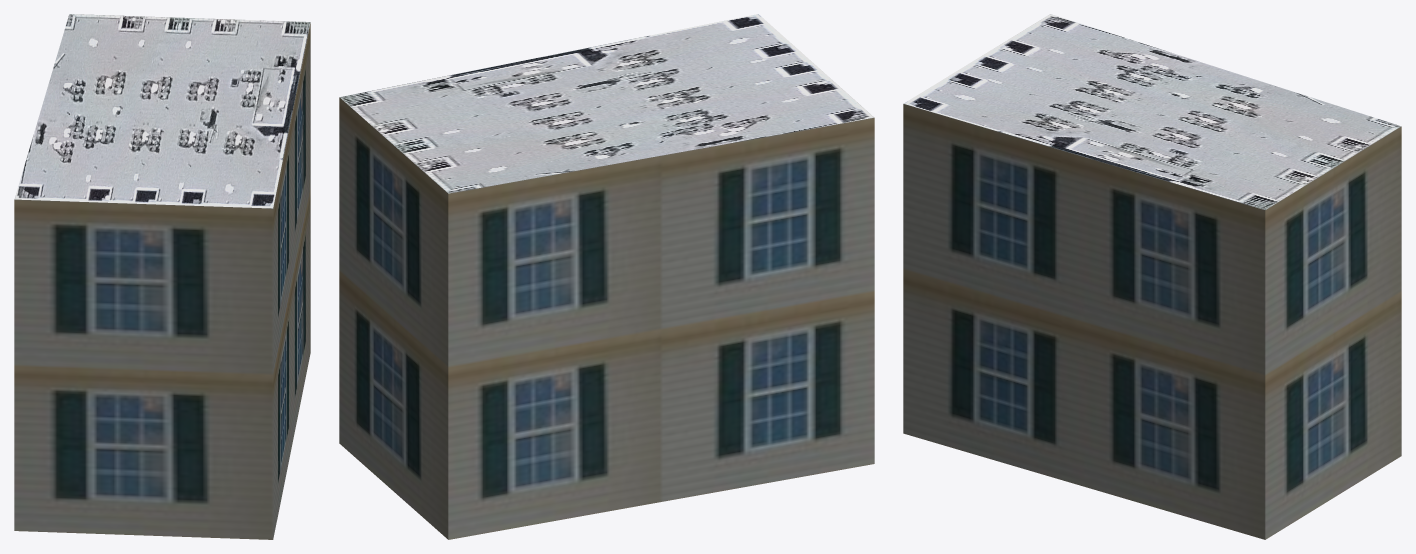
The model's file is ResTex__3861.fbx.
The picture shows the model from 3 angles, left to right: view 1: azimuth 30°, elevation 25°; view 2: azimuth 150°, elevation 25°; view 3: azimuth 270°, elevation 25°; orthographic projection. The views are drawn at different scales.
Visible parts, largest first — view 1: CityEngineMaterial_7_m, CityEngineMaterial_8_m; view 2: CityEngineMaterial_7_m, CityEngineMaterial_8_m; view 3: CityEngineMaterial_7_m, CityEngineMaterial_8_m.
Boxes of the visible parts, x1,y1,x2,y2 form: CityEngineMaterial_7_m: [14, 22, 310, 539]; CityEngineMaterial_8_m: [14, 14, 310, 208]; CityEngineMaterial_7_m: [339, 97, 874, 539]; CityEngineMaterial_8_m: [339, 14, 873, 193]; CityEngineMaterial_7_m: [903, 104, 1401, 539]; CityEngineMaterial_8_m: [904, 14, 1400, 209].
Bounding box in the file's own units: 7.65 × 6 × 8.21.
2 materials, 2 textured.
